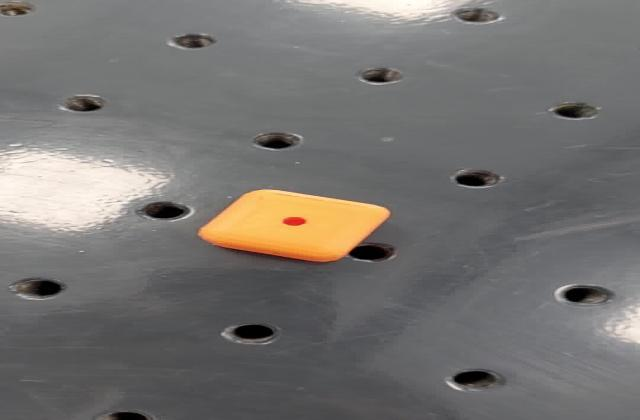cube: (191, 186, 397, 267)
